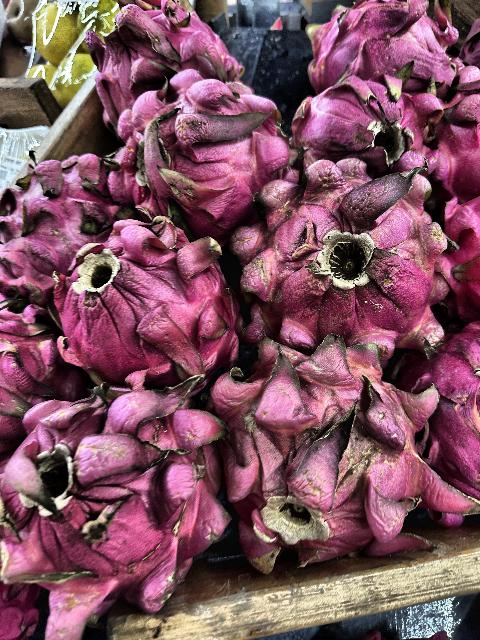buah-naga-matang: (215, 324, 439, 562), (6, 382, 224, 604), (241, 161, 441, 341), (50, 225, 232, 372), (104, 78, 284, 222), (284, 64, 440, 194), (54, 0, 240, 94), (294, 0, 460, 94), (418, 318, 480, 492), (0, 294, 70, 422), (1, 136, 116, 207), (3, 210, 99, 292), (434, 76, 480, 196), (440, 194, 480, 300)
